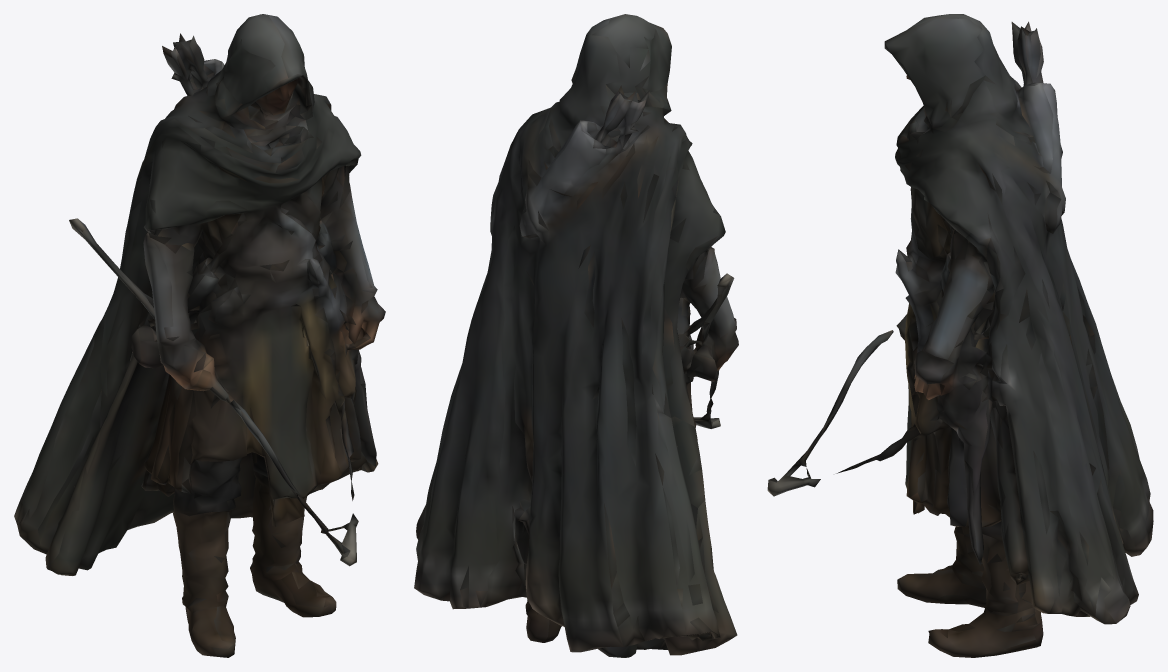
Rendered from Altaran_final.glb.
The picture shows the model from 3 angles, left to right: view 1: azimuth 30°, elevation 25°; view 2: azimuth 150°, elevation 25°; view 3: azimuth 270°, elevation 25°; orthographic projection.
Parts seen in each view (by area): view 1: Mesh1.0; view 2: Mesh1.0; view 3: Mesh1.0.
Boxes of the visible parts, x1=… form: Mesh1.0: x1=14, y1=14, x2=385, y2=657; Mesh1.0: x1=414, y1=14, x2=738, y2=657; Mesh1.0: x1=767, y1=14, x2=1153, y2=657.
Size of the model in its own units: 1.03 by 1.8 by 1.03.
Materials: 1 (1 with a texture image).
